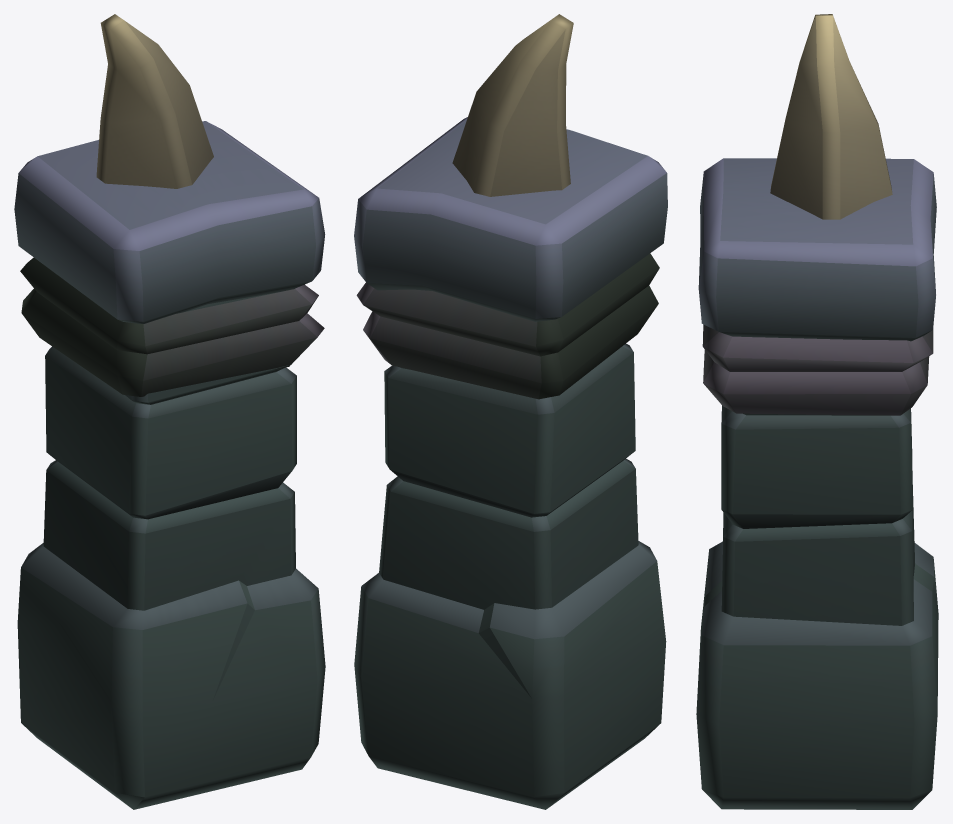
File: undead_column_4.fbx
3 renders of one model, left to right at view 1: azimuth 30°, elevation 25°; view 2: azimuth 150°, elevation 25°; view 3: azimuth 270°, elevation 25°, orthographic. The views are drawn at different scales.
Visible parts, largest first — view 1: undead_column_4; view 2: undead_column_4; view 3: undead_column_4.
Boxes of the visible parts, bbox=[...] form: undead_column_4: bbox=[14, 14, 325, 809]; undead_column_4: bbox=[354, 14, 667, 809]; undead_column_4: bbox=[696, 14, 938, 809].
Size of the model in its own units: 1.62 by 5.41 by 1.62.
